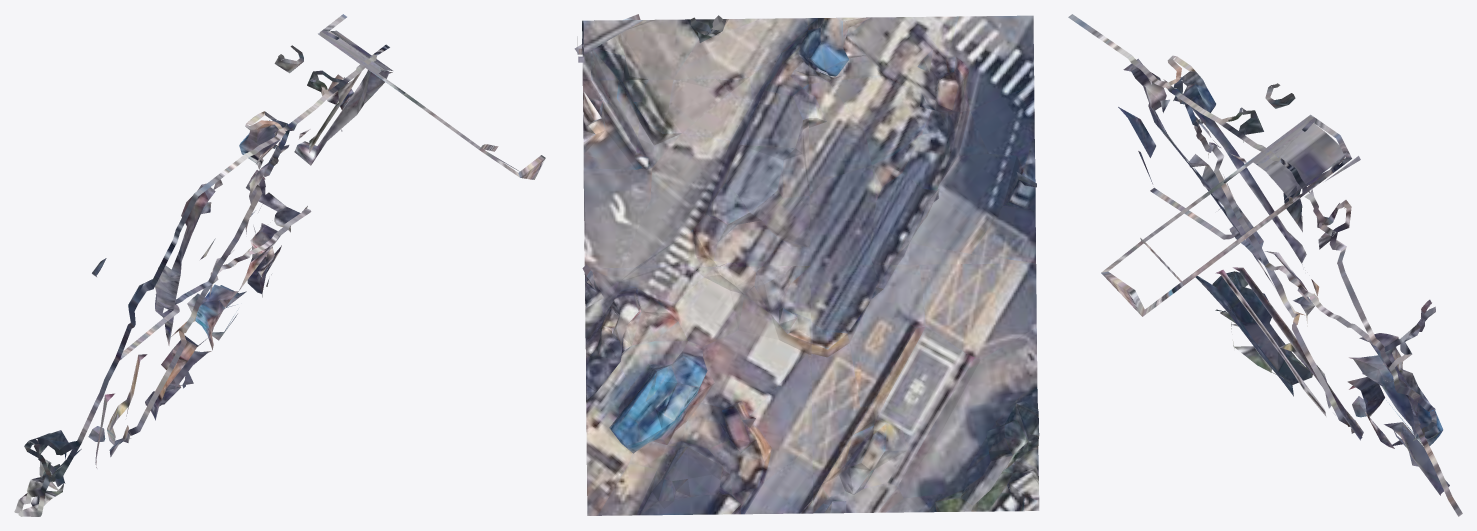
The picture shows the model from 3 angles, left to right: view 1: azimuth 30°, elevation 25°; view 2: azimuth 150°, elevation 25°; view 3: azimuth 270°, elevation 25°; orthographic projection. The views are drawn at different scales.
Bounding box in the file's own units: 47 × 37.31 × 31.93.
Materials: 2 (2 with a texture image).
